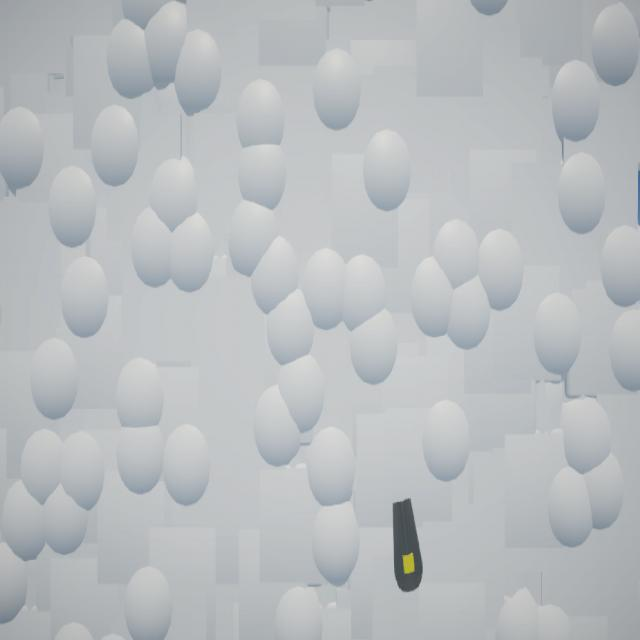handle_folk: (394, 498, 424, 594)
